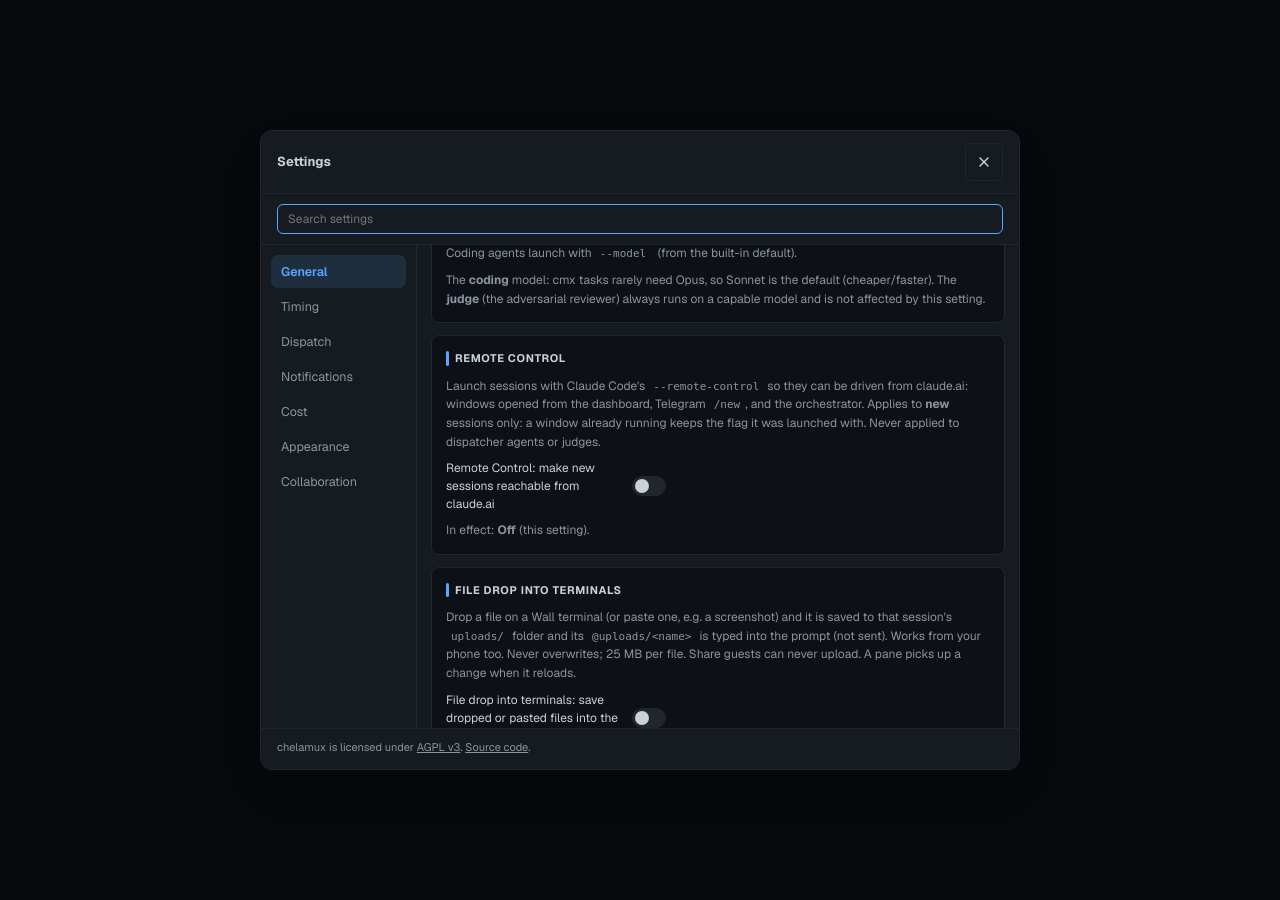
Test: remote-control-toggle reflects GET, POSTs a toggle, and re-renders from the reply
This screenshot has width=1280, height=900.
(page scrolled)
Click the switch with id "remote-control-toggle" at [649, 486], box [632,476,666,496]
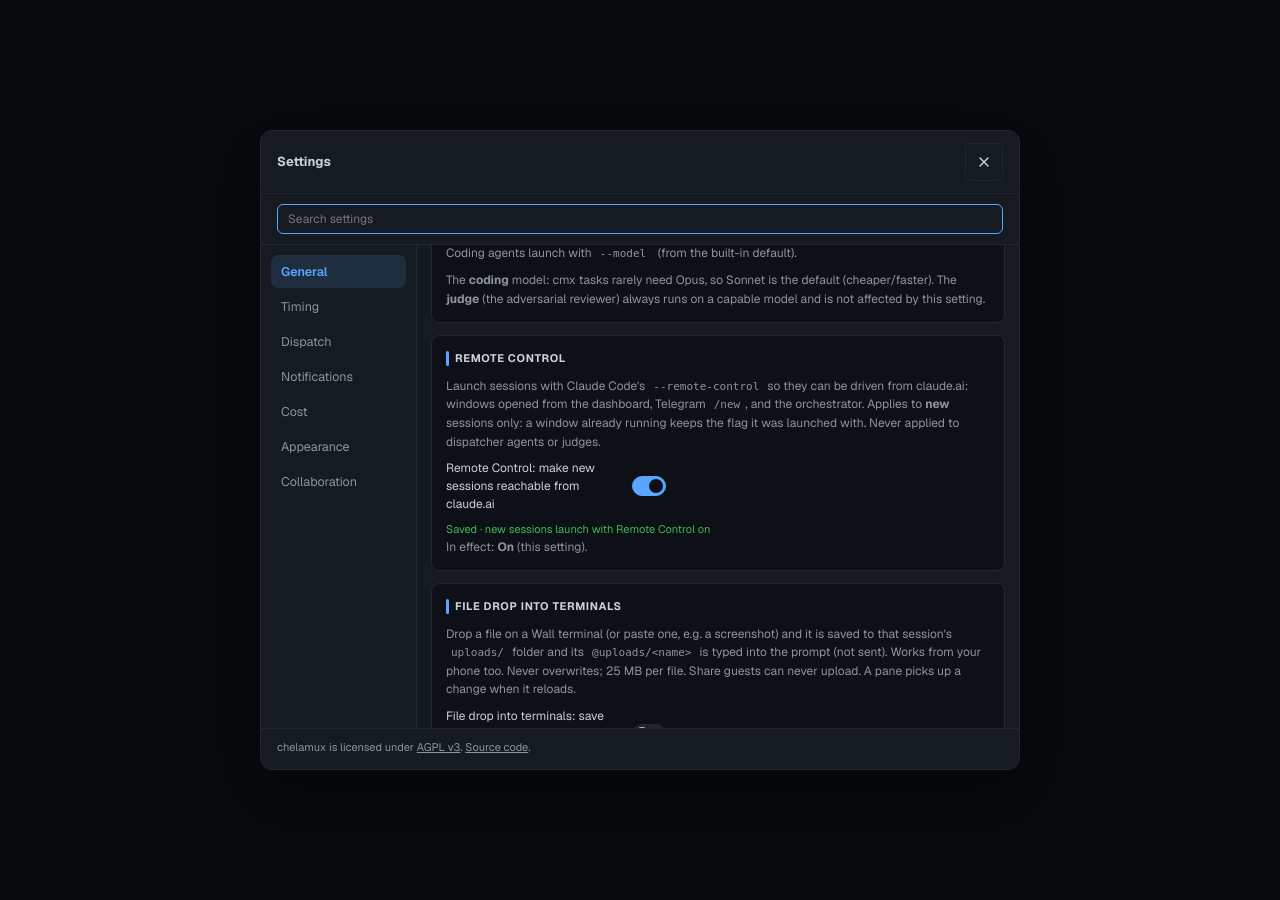
Result: the text with id "remote-control-msg" reads "Saved · new sessions launch with Remote Control on" at [446,522,710,536]
